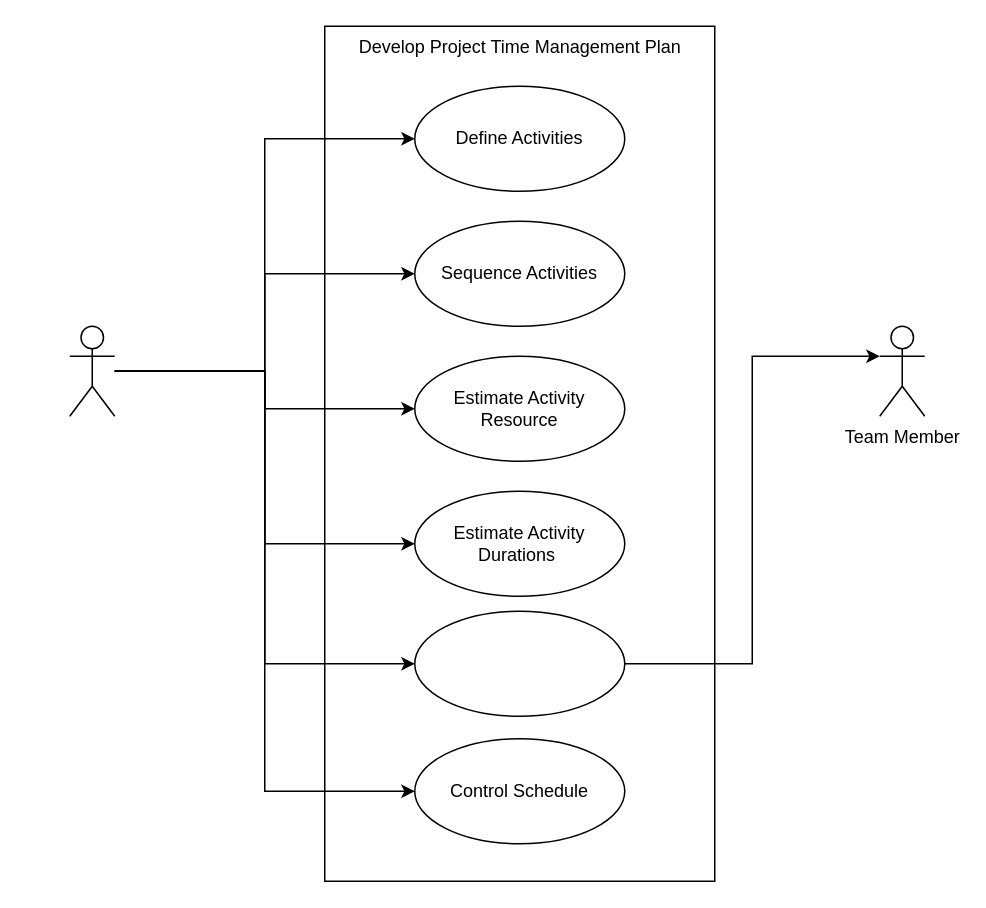
Some shapes in this 986 by 908 pixel diagram are drawn without their labels. The shapes that lost their labels are listed below. From the top down, each one's centre as x and y in pixels, then its label:
At [91,370]: "Project Manager".
At [519,663]: "Develop Schedule".
